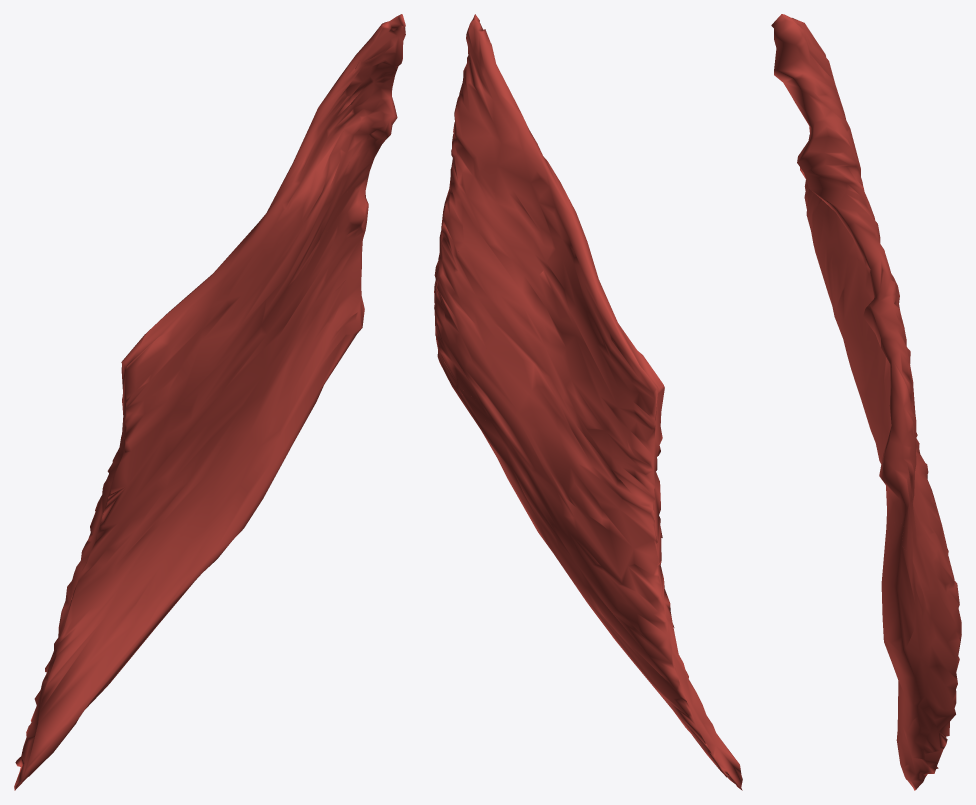
File: musculos-rhomboid-major-muscle-r.glb
3 renders of one model, left to right at view 1: azimuth 30°, elevation 25°; view 2: azimuth 150°, elevation 25°; view 3: azimuth 270°, elevation 25°, orthographic. The views are drawn at different scales.
Visible parts, largest first — view 1: Rhomboid major muscle.r; view 2: Rhomboid major muscle.r; view 3: Rhomboid major muscle.r.
Part boxes in pixels (box(x1,y1,x2,y2)): Rhomboid major muscle.r: box(14, 14, 405, 790); Rhomboid major muscle.r: box(434, 14, 742, 790); Rhomboid major muscle.r: box(771, 14, 961, 790).
Size of the model in its own units: 0.0885 by 0.1801 by 0.0309.
